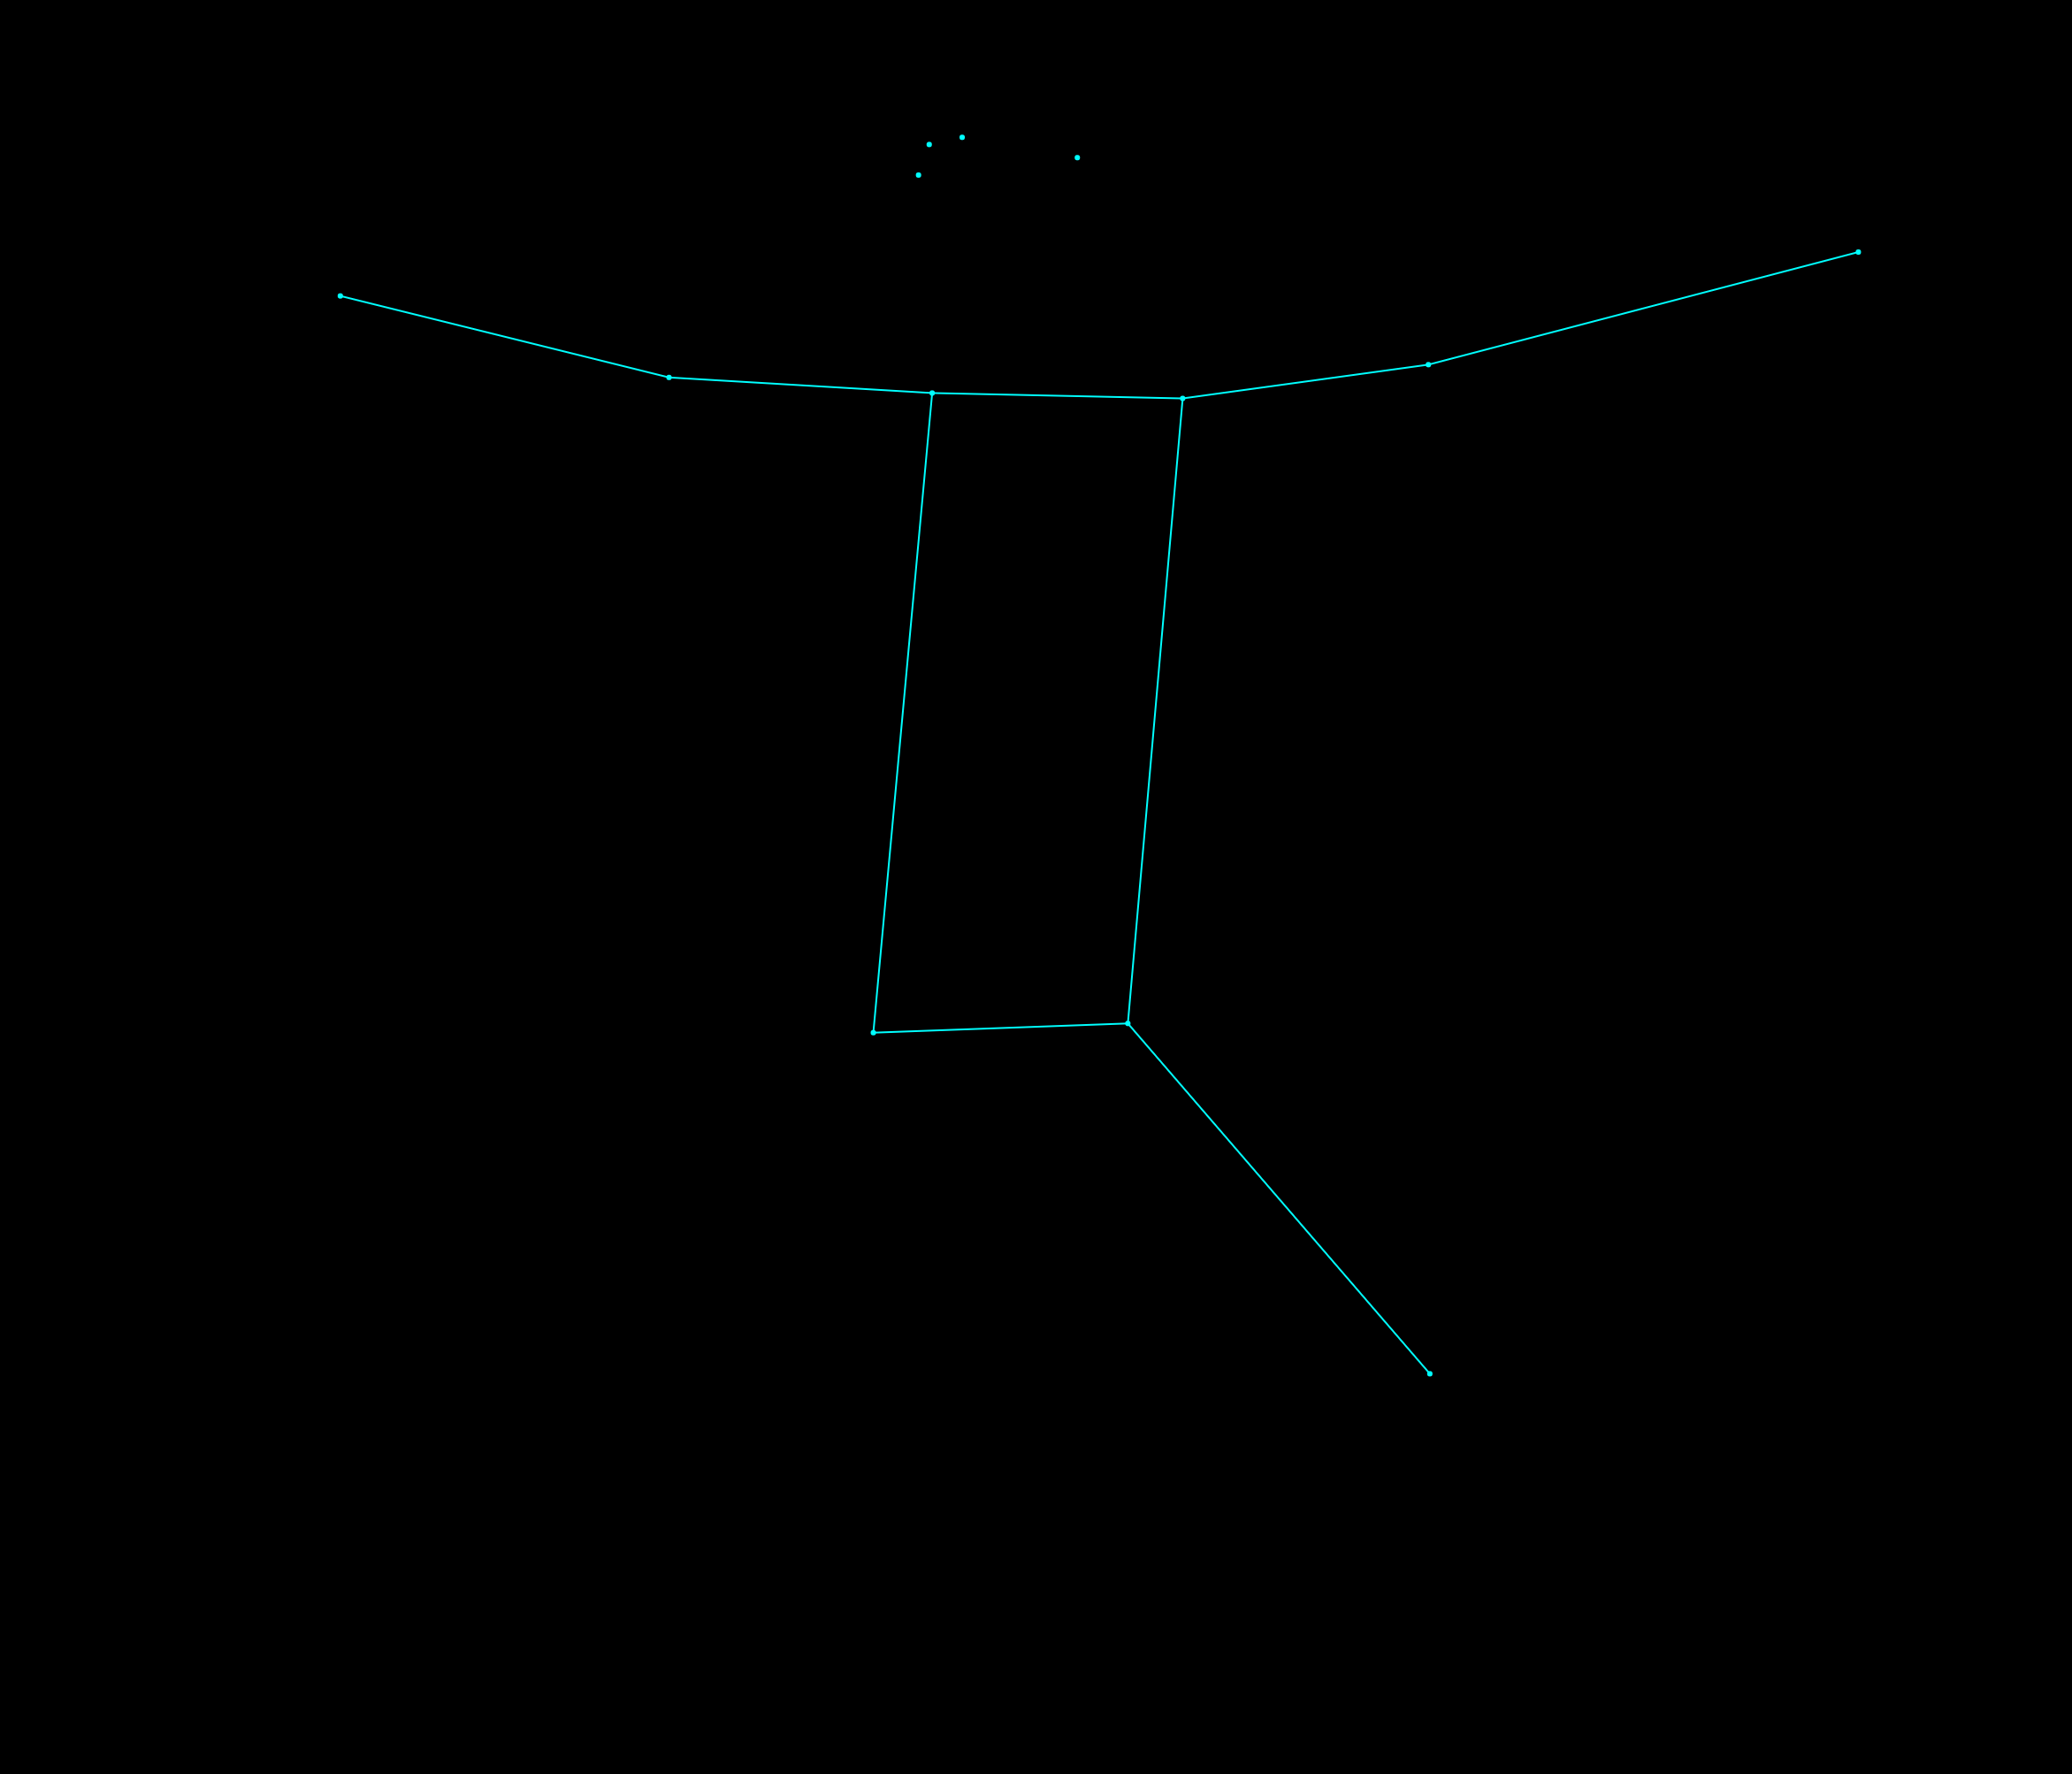warrior_2: (319, 113, 1882, 1397)
